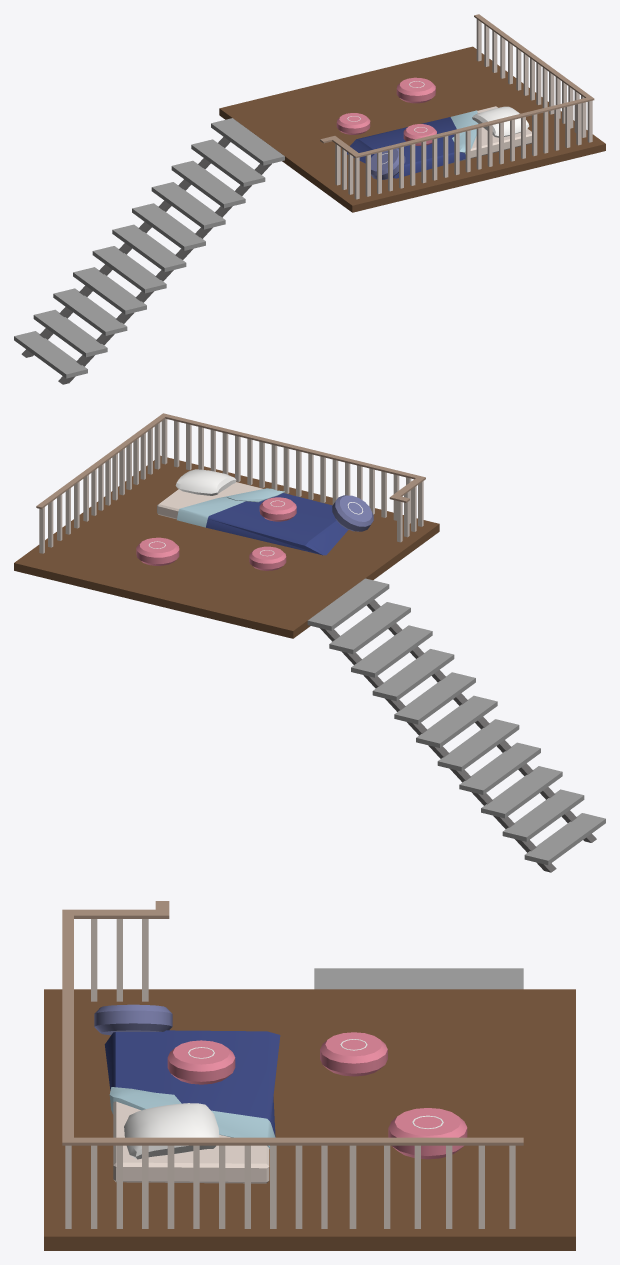
Rendered from Stairs bed.fbx.
3 renders of one model, top to bottom at view 1: azimuth 30°, elevation 25°; view 2: azimuth 150°, elevation 25°; view 3: azimuth 270°, elevation 25°, orthographic. The views are drawn at different scales.
Parts seen in each view (by area): view 1: Stairs bed, Stairs bed.002, Stairs bed.001; view 2: Stairs bed, Stairs bed.003, Stairs bed.002, Stairs bed.001, Stairs bed.004; view 3: Stairs bed, Stairs bed.002, Stairs bed.004, Stairs bed.001, Stairs bed.003.
Boxes of the visible parts, x1,y1,x2,y2 form: Stairs bed: (14, 14, 605, 384); Stairs bed.002: (396, 77, 435, 103); Stairs bed.001: (336, 113, 370, 134); Stairs bed: (14, 413, 605, 872); Stairs bed.003: (332, 495, 373, 531); Stairs bed.002: (136, 537, 179, 565); Stairs bed.001: (249, 546, 286, 570); Stairs bed.004: (259, 497, 296, 521); Stairs bed: (44, 901, 575, 1250); Stairs bed.002: (388, 1108, 467, 1159); Stairs bed.004: (167, 1040, 235, 1084); Stairs bed.001: (320, 1032, 387, 1076); Stairs bed.003: (94, 1004, 172, 1035).
Size of the model in its own units: 766 by 347 by 374.
Materials: 1 (1 with a texture image).
